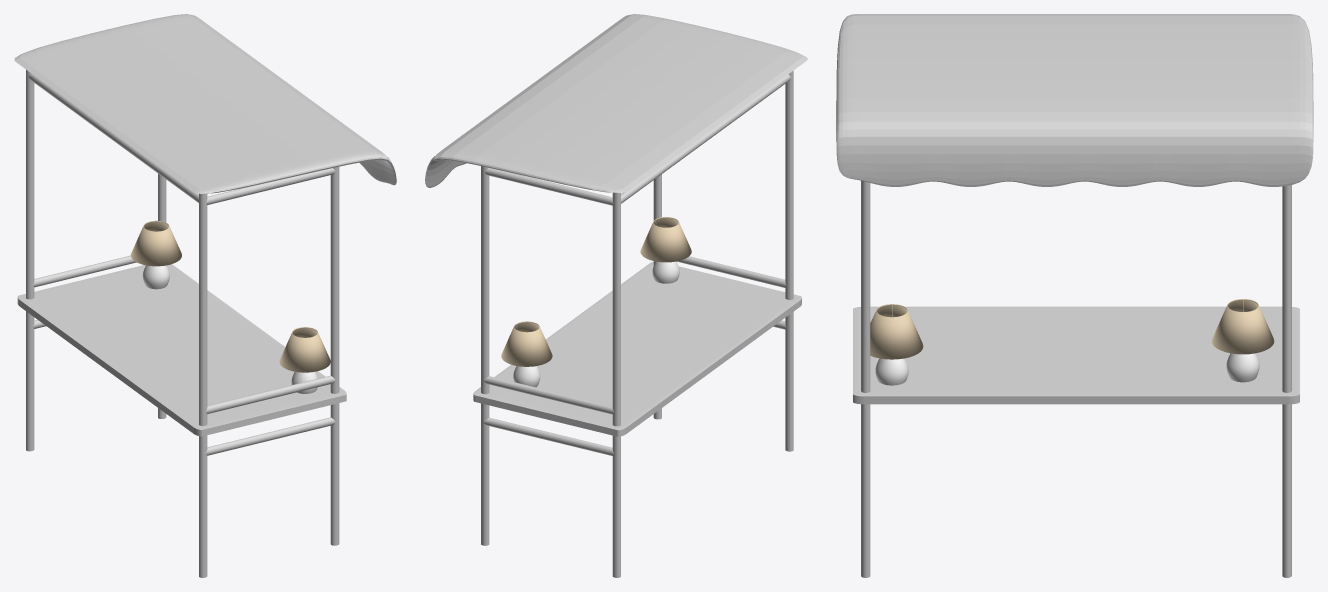
Rendered from stoisko.fbx.
3 renders of one model, left to right at view 1: azimuth 30°, elevation 25°; view 2: azimuth 150°, elevation 25°; view 3: azimuth 270°, elevation 25°, orthographic. The views are drawn at different scales.
Visible parts, largest first — view 1: Cube.001, Stoisko, Cylinder.003, Lampshade.001, Lampshade, Cylinder.004, Cylinder, Cylinder.001, Cylinder.002, Cylinder.006, Lamp_base.001; view 2: Cube.001, Stoisko, Cylinder.003, Lampshade.001, Lampshade, Cylinder.004, Cylinder.005, Cylinder.006, Cylinder.008, Cylinder, Lamp_base, Lamp_base.001; view 3: Cube.001, Stoisko, Cylinder.003, Lampshade.001, Lampshade, Lamp_base.001, Lamp_base.
Boxes of the visible parts, x1,y1,x2,y2 form: Cube.001: (14,14,396,193); Stoisko: (17,264,346,436); Cylinder.003: (26,70,339,577); Lampshade.001: (130,220,181,266); Lampshade: (279,327,330,372); Cylinder.004: (28,73,198,202); Cylinder: (206,375,335,413); Cylinder.001: (206,417,335,455); Cylinder.002: (206,168,335,204); Cylinder.006: (33,255,136,287); Lamp_base.001: (142,265,169,289); Cube.001: (425,14,807,192); Stoisko: (473,262,801,436); Cylinder.003: (481,70,793,577); Lampshade.001: (501,321,552,366); Lampshade: (640,217,691,262); Cylinder.004: (621,74,790,203); Cylinder.005: (483,417,614,455); Cylinder.006: (483,376,614,414); Cylinder.008: (485,168,613,205); Cylinder: (677,256,786,287); Lamp_base: (652,261,679,283); Lamp_base.001: (513,366,540,387); Cube.001: (836,14,1313,186); Stoisko: (853,306,1299,404); Cylinder.003: (861,180,1291,577); Lampshade.001: (1211,299,1274,354); Lampshade: (860,304,923,359); Lamp_base.001: (1226,353,1259,382); Lamp_base: (875,358,908,385).
Size of the model in its own units: 423 by 808 by 729.
